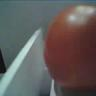tomato: (41, 6, 96, 93)
